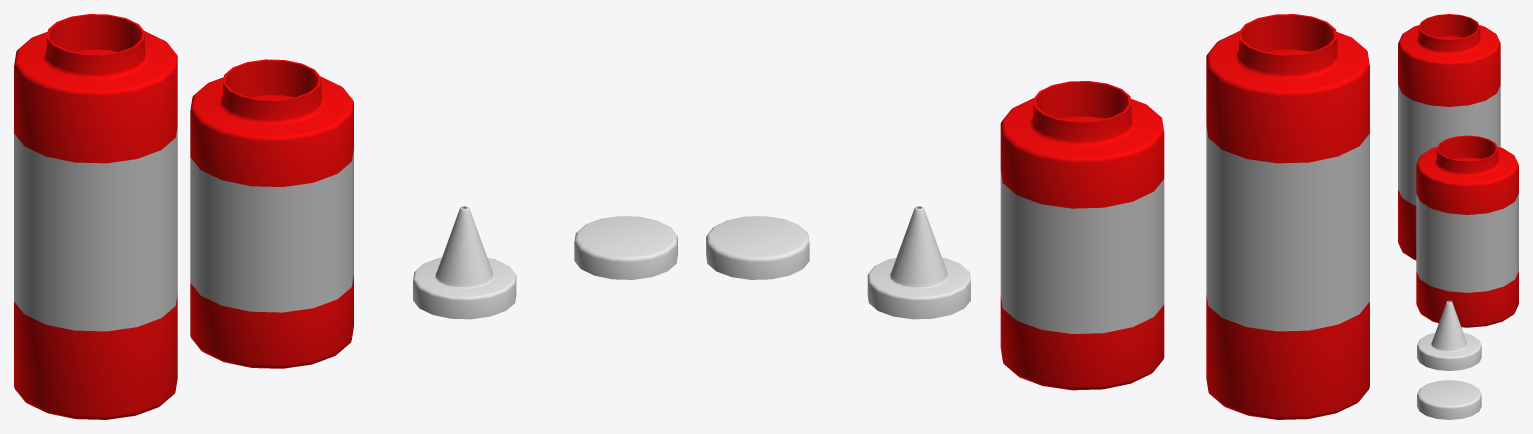
File: Paint Bottle.fbx
The picture shows the model from 3 angles, left to right: view 1: azimuth 30°, elevation 25°; view 2: azimuth 150°, elevation 25°; view 3: azimuth 270°, elevation 25°; orthographic projection. The views are drawn at different scales.
Visible parts, largest first — view 1: Paint_Bottle_1, Paint_Bottle_2, Top_2, Top_1; view 2: Paint_Bottle_1, Paint_Bottle_2, Top_2, Top_1; view 3: Paint_Bottle_2, Paint_Bottle_1, Top_2, Top_1.
Boxes of the visible parts, x1,y1,x2,y2 form: Paint_Bottle_1: [14, 14, 177, 419]; Paint_Bottle_2: [190, 59, 353, 368]; Top_2: [413, 206, 516, 319]; Top_1: [574, 216, 677, 279]; Paint_Bottle_1: [1206, 14, 1369, 419]; Paint_Bottle_2: [1000, 81, 1164, 390]; Top_2: [867, 206, 970, 319]; Top_1: [706, 216, 809, 279]; Paint_Bottle_2: [1416, 135, 1518, 327]; Paint_Bottle_1: [1398, 14, 1500, 260]; Top_2: [1417, 300, 1481, 370]; Top_1: [1417, 380, 1481, 419].
Size of the model in its own units: 54.27 by 28.76 by 14.13.
